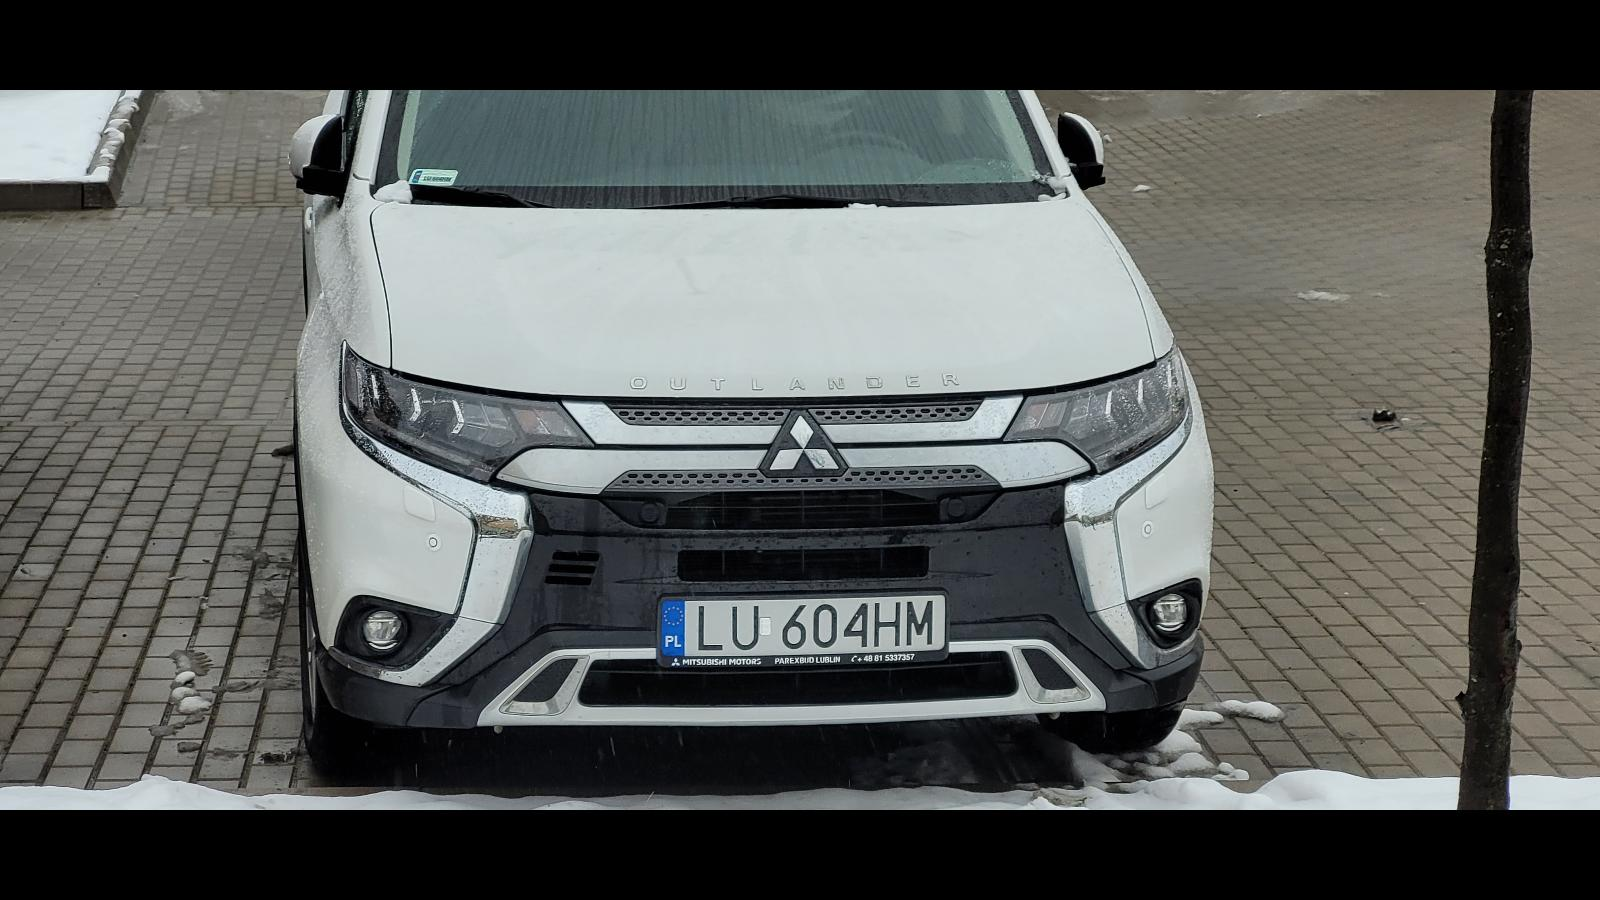plates: (657, 592, 949, 668)
